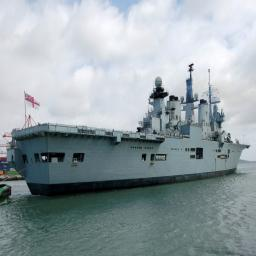Portanaves: (7, 61, 253, 199)
